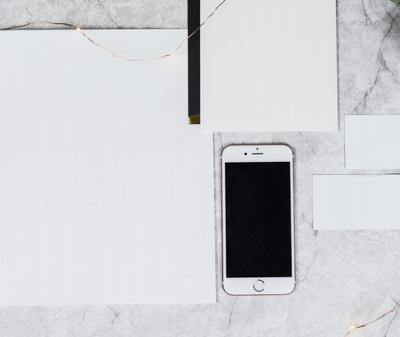cell-phone: (219, 141, 301, 297)
